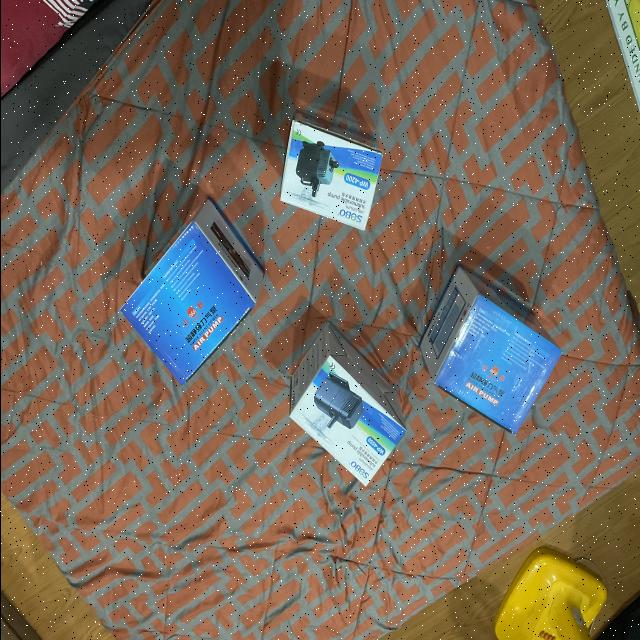SOBO_WP_4200: (277, 310, 408, 498), (264, 109, 390, 231)
YAMANO_LPP_20: (112, 195, 268, 392), (410, 259, 564, 450)
